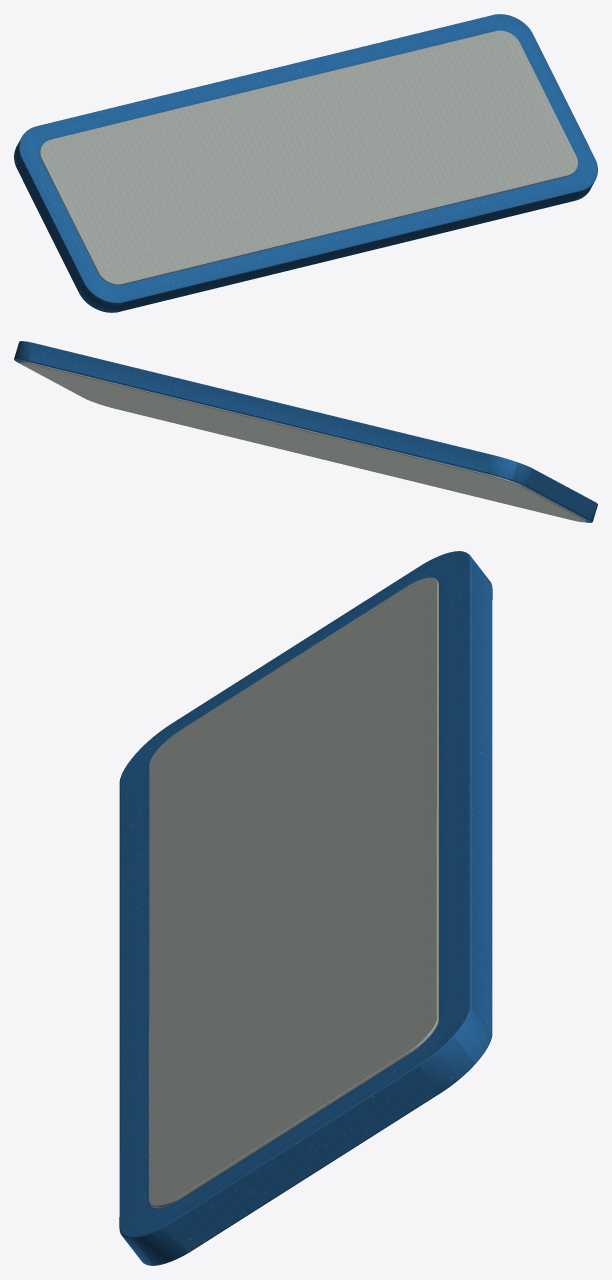
The model's file is 7-half-open-canopy-and-real-hinge-1.fbx.
3 renders of one model, top to bottom at view 1: azimuth 30°, elevation 25°; view 2: azimuth 150°, elevation 25°; view 3: azimuth 270°, elevation 25°, orthographic. The views are drawn at different scales.
Parts seen in each view (by area): view 1: half-open-canopy-and-real-hinge-1; view 2: half-open-canopy-and-real-hinge-1; view 3: half-open-canopy-and-real-hinge-1.
Boxes of the visible parts, x1,y1,x2,y2 form: half-open-canopy-and-real-hinge-1: (14,14,597,312); half-open-canopy-and-real-hinge-1: (14,341,597,522); half-open-canopy-and-real-hinge-1: (119,551,492,1265).
Bounding box in the file's own units: 9200 × 2157 × 2906.
Materials: 1 (1 with a texture image).
